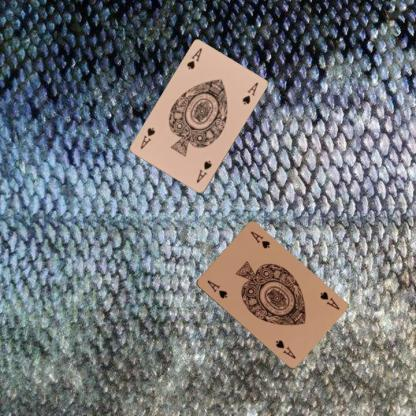As: (204, 277, 228, 300), (184, 46, 204, 71), (194, 158, 213, 184), (318, 289, 340, 311)
